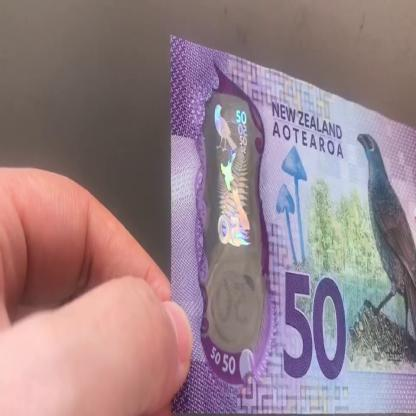50B: (211, 101, 254, 334)
